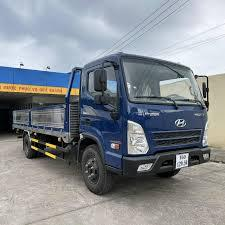hyundai: (173, 117, 188, 128)
